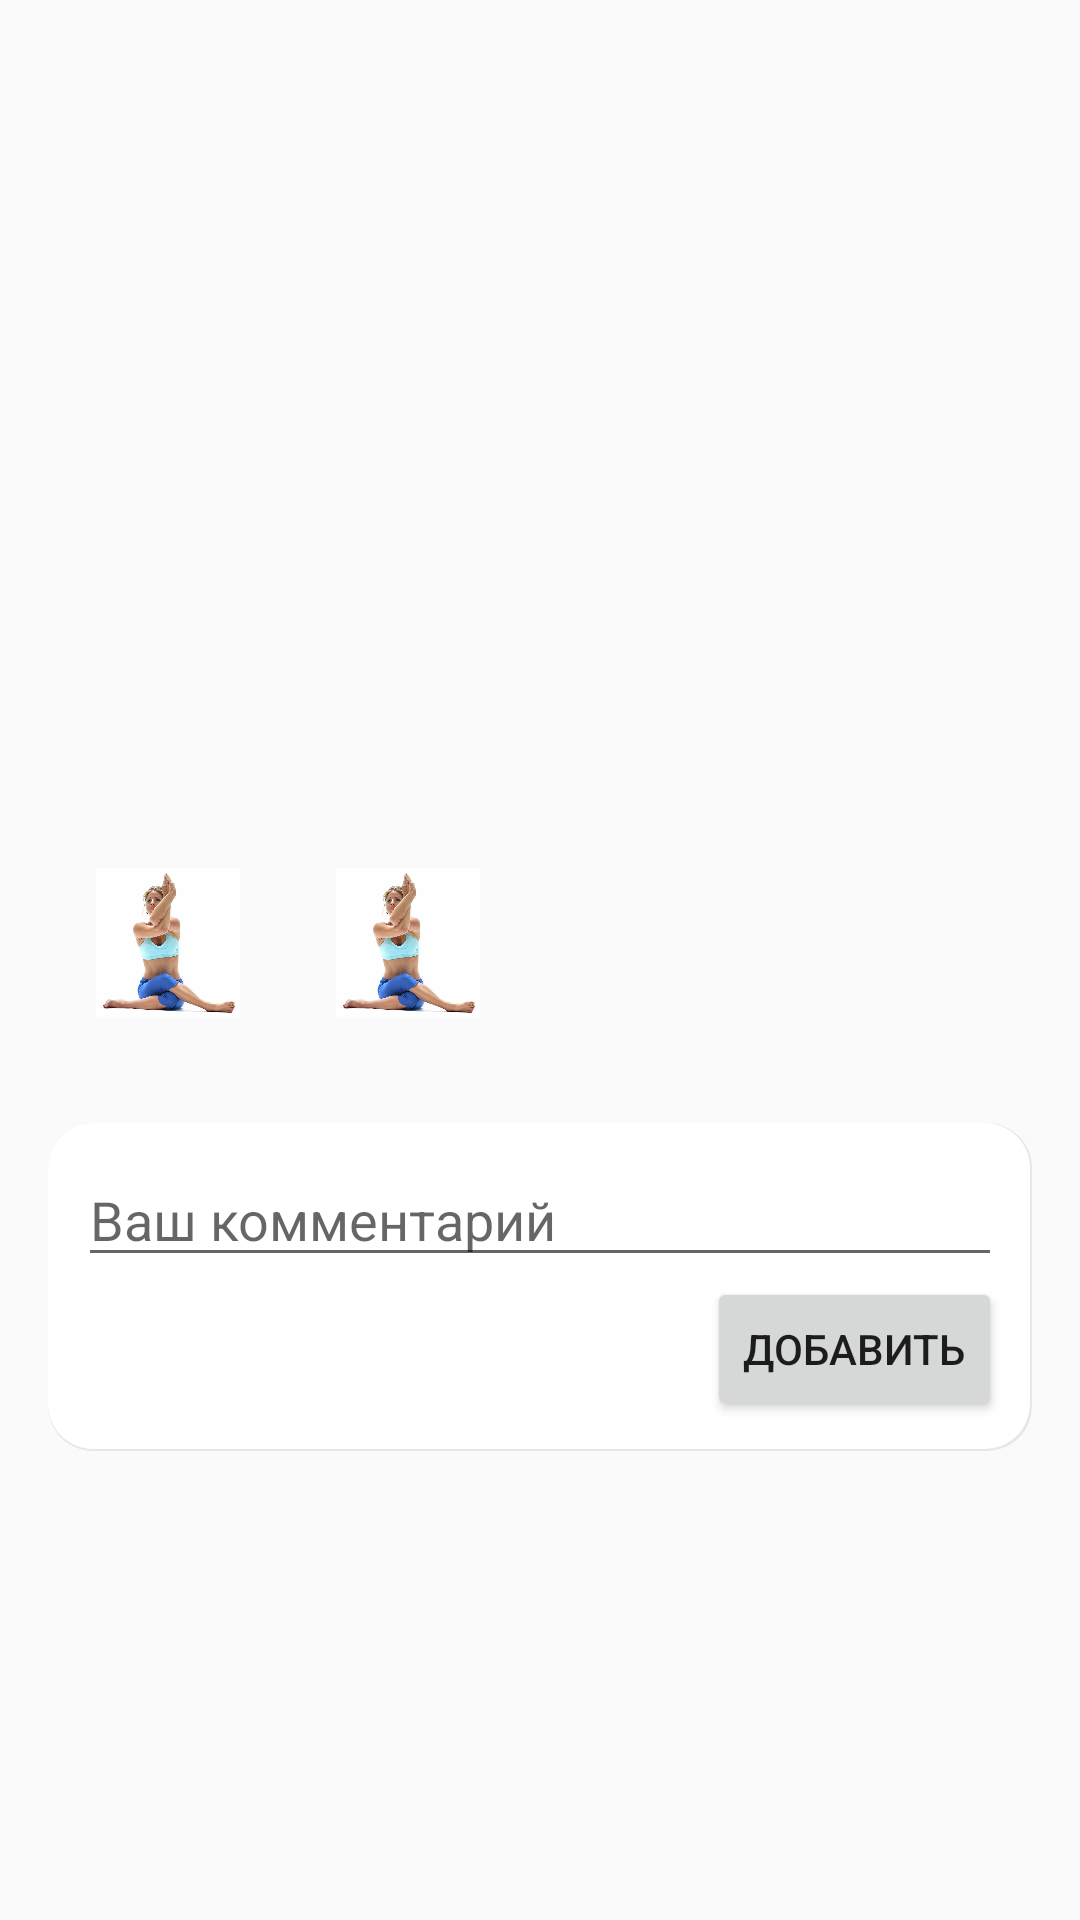

Screen size 1080w x 1920h. Icon name, then its center in pixels as point (x, y):
gomukxasana: point (169, 943), point (409, 943)
